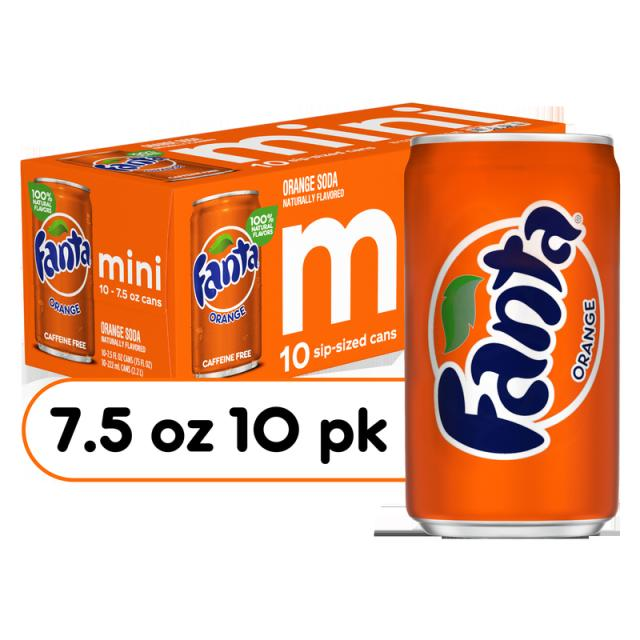fanta: (387, 112, 622, 539), (24, 174, 111, 364), (197, 200, 286, 374)
